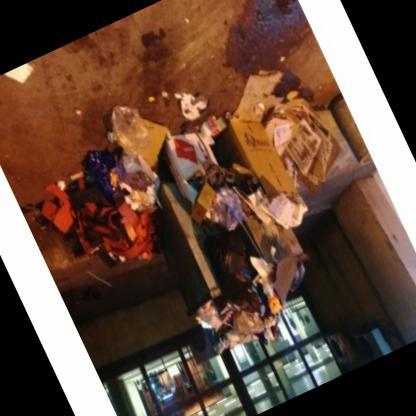Garbage: (15, 88, 208, 287), (236, 70, 360, 209), (213, 102, 313, 240), (198, 258, 328, 362), (158, 114, 256, 244)
